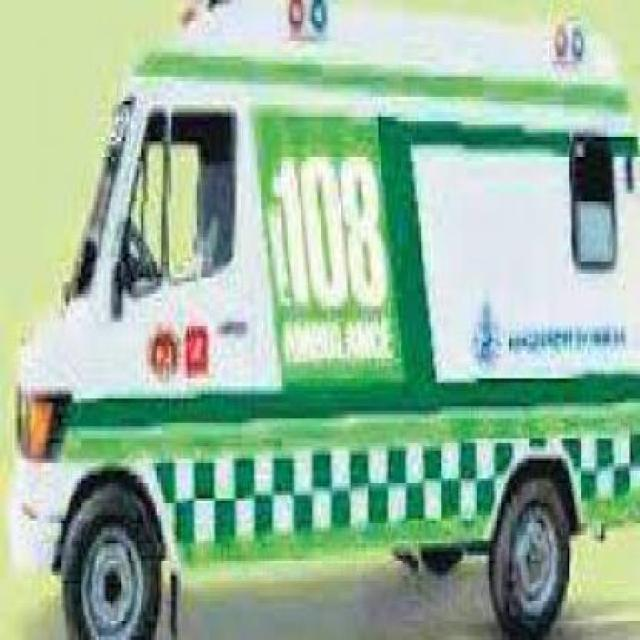Ambulance: (1, 4, 638, 636)
